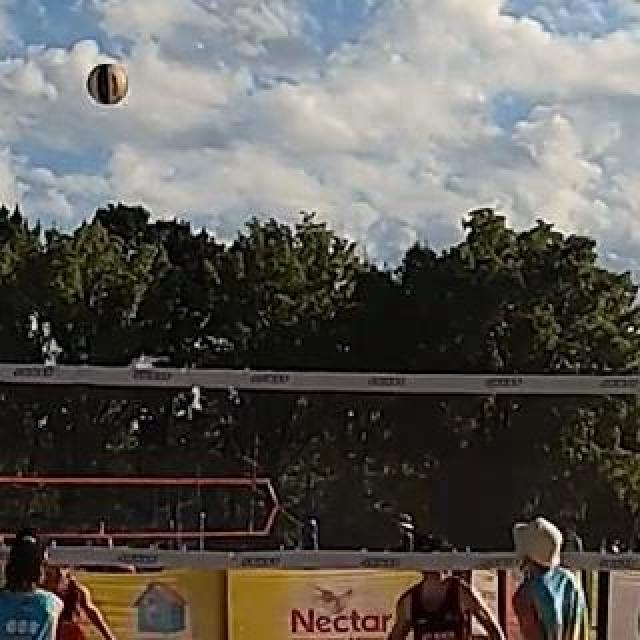volleyball: (88, 65, 128, 107)
